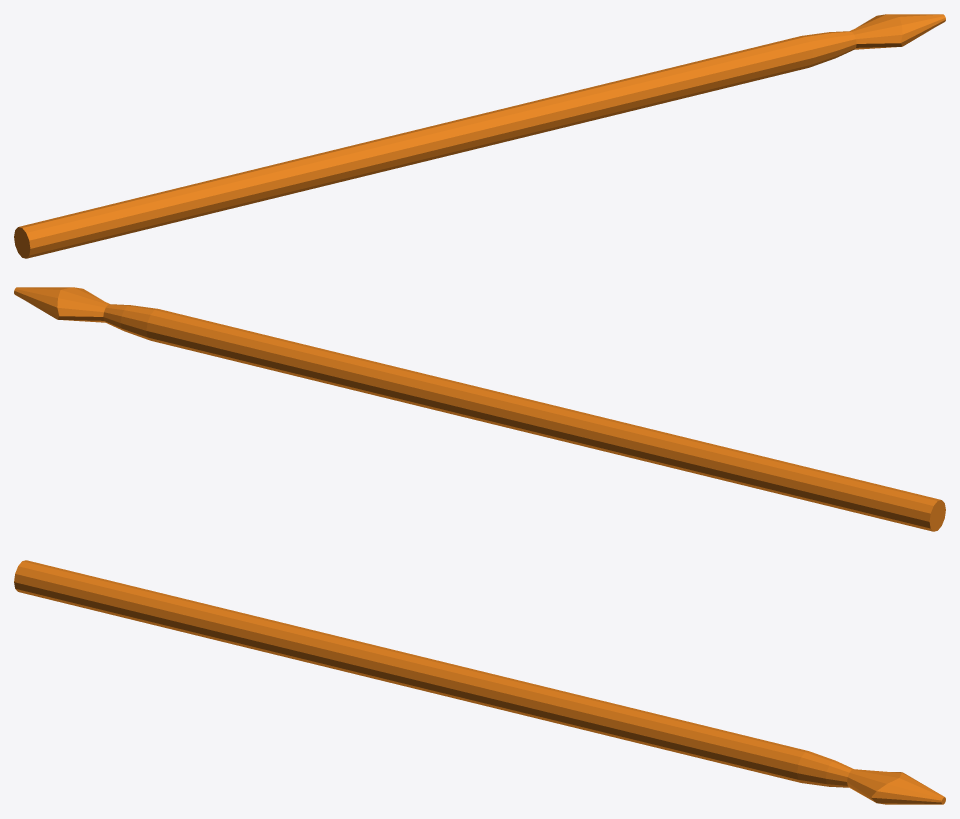
Rendered from Ballesta 02.fbx.
The picture shows the model from 3 angles, top to bottom: view 1: azimuth 30°, elevation 25°; view 2: azimuth 150°, elevation 25°; view 3: azimuth 330°, elevation 25°; orthographic projection.
Parts seen in each view (by area): view 1: Cylinder.038; view 2: Cylinder.038; view 3: Cylinder.038.
Part boxes in pixels (x1,y1,x2,y2): Cylinder.038: [14, 14, 945, 258]; Cylinder.038: [14, 287, 945, 531]; Cylinder.038: [14, 560, 945, 804].
Size of the model in its own units: 0.514 by 0.0159 by 0.029.
